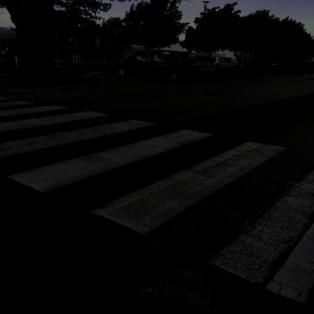Paso de Cebra: (0, 126, 294, 244)
